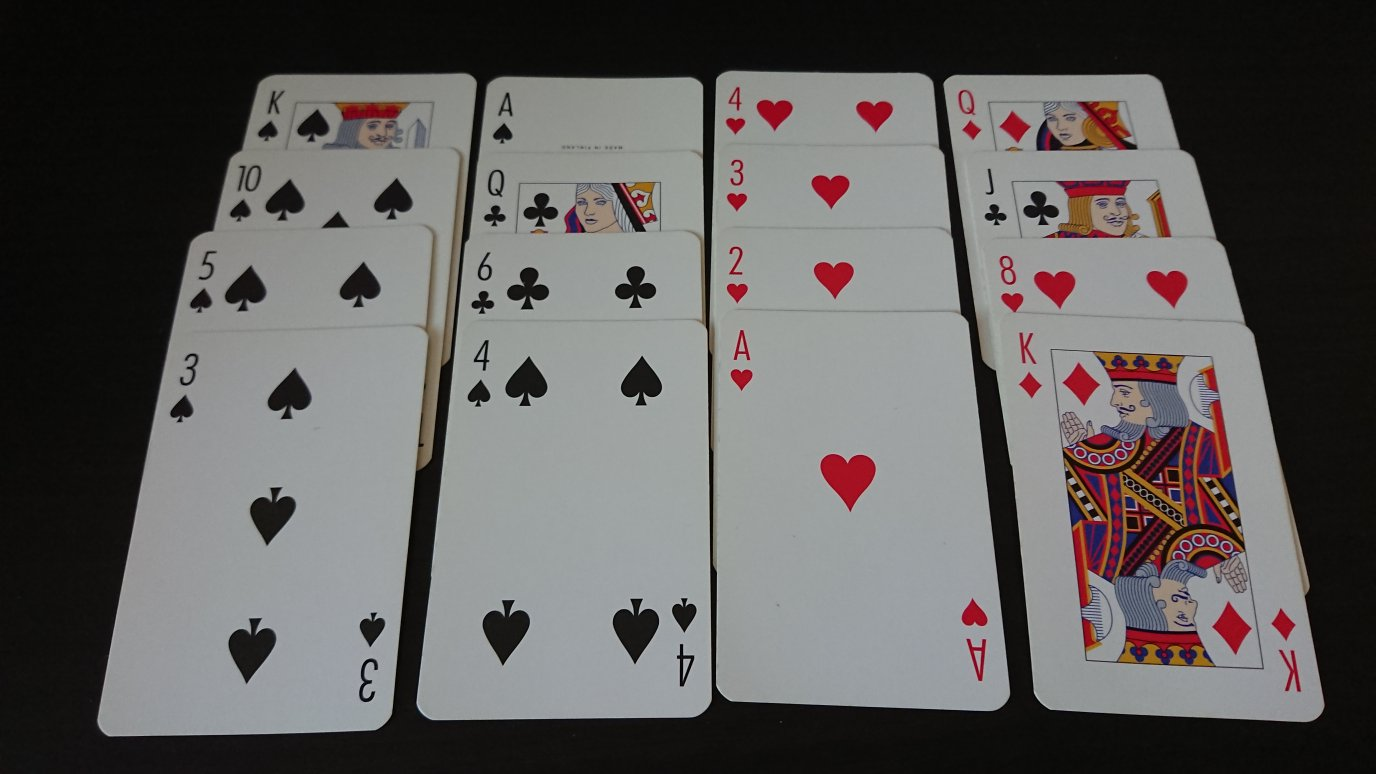10S: (225, 157, 266, 227)
2H: (722, 241, 753, 307)
3H: (719, 153, 753, 215)
3S: (165, 345, 205, 430)
4H: (721, 77, 752, 139)
4S: (461, 333, 496, 414)
5S: (182, 243, 223, 323)
6C: (466, 248, 501, 319)
8H: (990, 245, 1028, 314)
AH: (721, 321, 760, 396)
AS: (487, 85, 521, 150)
JC: (974, 160, 1012, 231)
KD: (1008, 325, 1049, 403)
KS: (253, 83, 290, 147)
QC: (478, 160, 512, 233)
QD: (952, 83, 988, 147)
